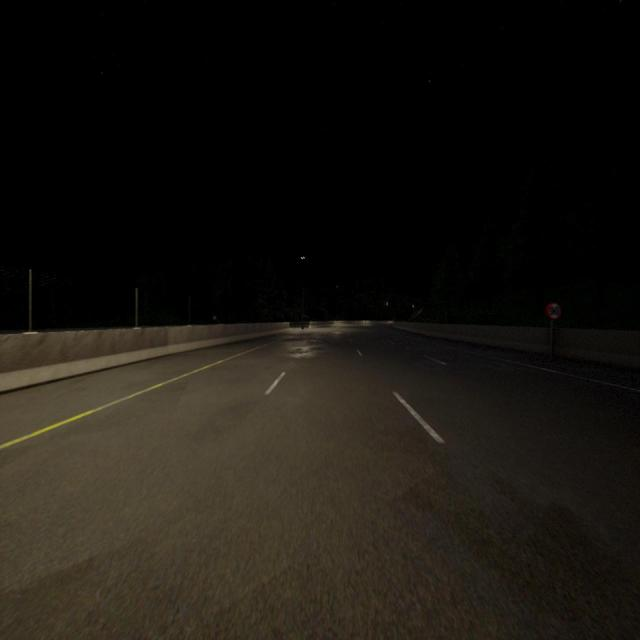Traffic_Signs: (545, 302, 561, 320)
